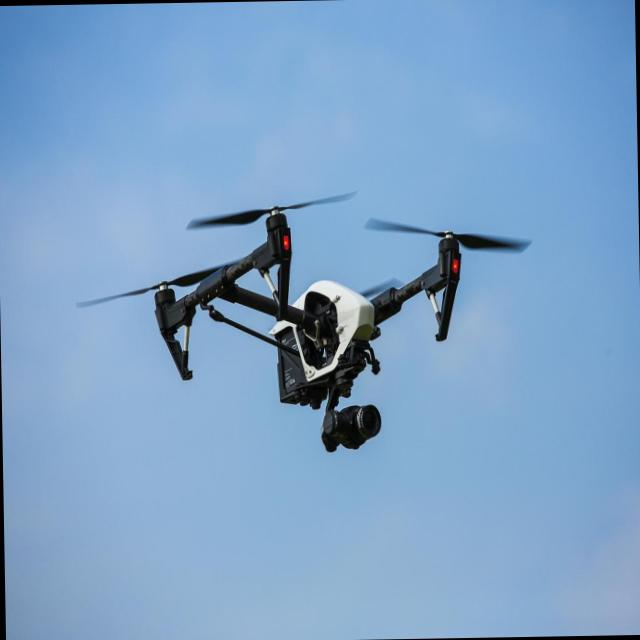drone: (72, 182, 532, 459)
